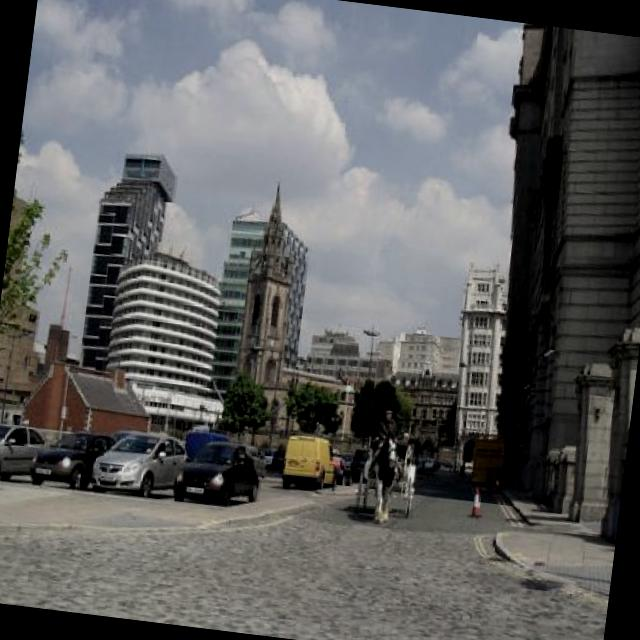Person: (374, 407, 400, 442), (393, 429, 409, 458)
